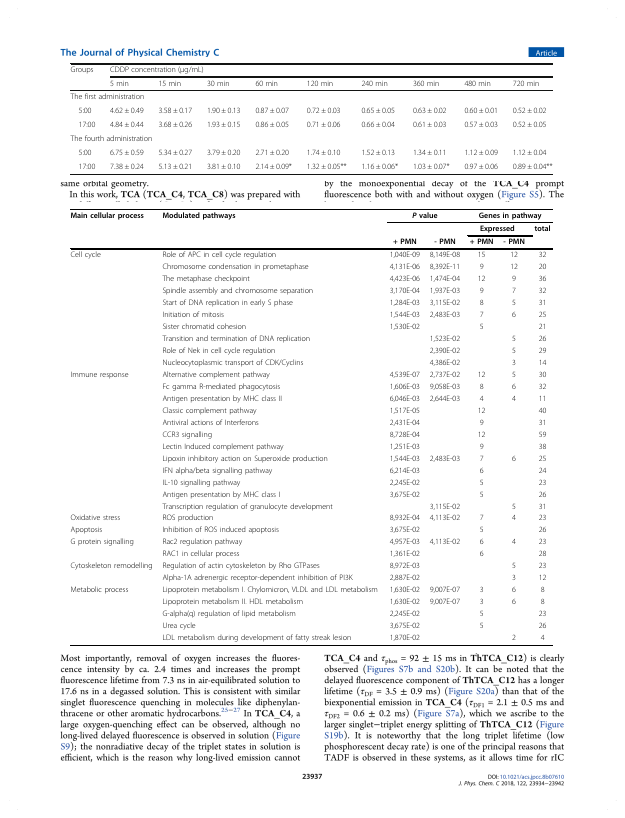borderless: (69, 207, 553, 645), (69, 62, 553, 174)
cell: (161, 585, 379, 595), (161, 573, 354, 583), (161, 633, 352, 643), (161, 561, 321, 571), (161, 502, 334, 511), (161, 286, 314, 296), (161, 454, 329, 463), (161, 334, 311, 344), (161, 358, 304, 368), (161, 597, 304, 607), (161, 609, 297, 619), (161, 263, 310, 272), (161, 298, 294, 308), (161, 394, 283, 404), (161, 382, 281, 392), (161, 346, 276, 356), (161, 442, 284, 451), (161, 370, 271, 380), (161, 490, 281, 499), (161, 526, 280, 535), (161, 251, 277, 260), (161, 466, 273, 475), (161, 406, 257, 416), (161, 274, 251, 284), (161, 418, 260, 427), (109, 66, 205, 75), (161, 322, 247, 332), (69, 561, 154, 571), (70, 134, 153, 144), (161, 537, 243, 547), (161, 549, 240, 559), (70, 92, 145, 102), (161, 478, 241, 487), (70, 211, 145, 220), (161, 211, 236, 220), (69, 537, 135, 547), (161, 310, 225, 320), (69, 370, 129, 380), (69, 585, 129, 595), (478, 211, 542, 220), (161, 514, 214, 523), (161, 430, 213, 439), (69, 514, 121, 523), (306, 162, 347, 172), (512, 162, 553, 172), (254, 162, 293, 172), (360, 162, 399, 172), (412, 162, 450, 172), (479, 224, 516, 234), (161, 621, 197, 631), (109, 106, 145, 116), (157, 106, 193, 116), (254, 106, 290, 116), (360, 106, 396, 116), (463, 106, 499, 116), (109, 120, 145, 130), (157, 120, 193, 130), (254, 120, 290, 130), (360, 120, 396, 130), (463, 120, 499, 130), (109, 148, 145, 158), (157, 148, 193, 158), (254, 148, 290, 158), (360, 148, 396, 158), (463, 148, 499, 158), (109, 162, 145, 172), (157, 162, 193, 172), (463, 162, 499, 172), (206, 106, 241, 116), (306, 106, 341, 116), (412, 106, 447, 116), (512, 106, 547, 116), (206, 120, 241, 130), (306, 120, 341, 130), (412, 120, 447, 130), (512, 120, 547, 130), (206, 148, 241, 158), (306, 148, 341, 158), (412, 148, 447, 158), (512, 148, 547, 158), (206, 162, 241, 172), (389, 274, 421, 284), (429, 274, 461, 284), (389, 286, 421, 296), (429, 286, 461, 296), (389, 298, 421, 308), (429, 298, 461, 308), (389, 310, 421, 320), (429, 310, 461, 320), (389, 322, 421, 332), (429, 334, 461, 344), (429, 346, 461, 356), (429, 358, 461, 368), (389, 370, 421, 380), (429, 370, 461, 380), (389, 382, 421, 392), (429, 382, 461, 392), (389, 394, 421, 404), (429, 394, 461, 404), (389, 406, 421, 416), (389, 537, 421, 547), (429, 537, 461, 547), (389, 549, 421, 559), (389, 561, 421, 571), (389, 573, 421, 583), (389, 585, 421, 595), (429, 585, 461, 595), (389, 597, 421, 607), (429, 597, 461, 607), (389, 609, 421, 619), (389, 621, 421, 631), (389, 633, 421, 643), (69, 526, 103, 535), (69, 251, 102, 260), (389, 251, 421, 260), (429, 251, 461, 260), (389, 263, 421, 272), (429, 263, 461, 272), (389, 418, 421, 427), (389, 430, 421, 439), (389, 442, 421, 451), (389, 454, 421, 463), (429, 454, 461, 463), (389, 466, 421, 475), (389, 478, 421, 487), (389, 490, 421, 499), (429, 502, 461, 511), (389, 514, 421, 523), (429, 514, 461, 523), (389, 526, 421, 535), (360, 79, 389, 88), (463, 79, 492, 88), (392, 237, 418, 247), (306, 79, 334, 88), (412, 79, 440, 88), (512, 79, 540, 88), (469, 237, 494, 247), (411, 211, 438, 220), (502, 237, 526, 247), (433, 237, 456, 247), (157, 79, 182, 88), (254, 79, 279, 88), (70, 66, 94, 75), (206, 79, 230, 88), (77, 120, 96, 130), (77, 162, 96, 172), (109, 79, 130, 88), (534, 224, 551, 234), (77, 106, 92, 116), (77, 148, 92, 158), (509, 251, 519, 260), (509, 263, 519, 272), (477, 274, 486, 284), (538, 274, 547, 284), (538, 286, 547, 296), (538, 298, 547, 308), (538, 310, 547, 320), (538, 322, 547, 332), (538, 334, 547, 344), (538, 346, 547, 356), (538, 358, 547, 368), (477, 370, 486, 380), (538, 370, 547, 380), (538, 382, 547, 392), (538, 394, 547, 404), (477, 406, 486, 416), (538, 406, 547, 416), (538, 537, 547, 547), (538, 549, 547, 559), (538, 561, 547, 571), (538, 573, 547, 583), (538, 609, 547, 619), (538, 621, 547, 631), (477, 251, 486, 260), (538, 251, 547, 260), (538, 263, 547, 272), (538, 418, 547, 427), (477, 430, 486, 439), (538, 430, 547, 439), (538, 442, 547, 451), (538, 454, 547, 463), (538, 466, 547, 475), (538, 478, 547, 487), (538, 490, 547, 499), (538, 502, 547, 511), (538, 514, 547, 523), (538, 526, 547, 535), (511, 274, 517, 284), (511, 286, 517, 296), (511, 298, 517, 308), (511, 310, 517, 320), (511, 334, 517, 344), (511, 346, 517, 356), (511, 358, 517, 368), (511, 370, 517, 380), (511, 382, 517, 392), (511, 394, 517, 404), (511, 537, 517, 547), (511, 561, 517, 571), (511, 573, 517, 583), (511, 585, 517, 595), (511, 597, 517, 607), (511, 633, 517, 643), (511, 454, 517, 463), (511, 502, 517, 511), (511, 514, 517, 523), (479, 286, 484, 296), (479, 298, 484, 308), (479, 310, 484, 320), (479, 322, 484, 332), (479, 382, 484, 392), (479, 394, 484, 404), (479, 537, 484, 547), (479, 549, 484, 559), (479, 585, 484, 595), (540, 585, 545, 595), (479, 597, 484, 607), (540, 597, 545, 607), (479, 609, 484, 619), (479, 621, 484, 631), (540, 633, 545, 643), (479, 263, 484, 272), (479, 418, 484, 427), (479, 442, 484, 451), (479, 454, 484, 463), (479, 466, 484, 475), (479, 478, 484, 487), (479, 490, 484, 499), (479, 514, 484, 523), (479, 526, 484, 535)
